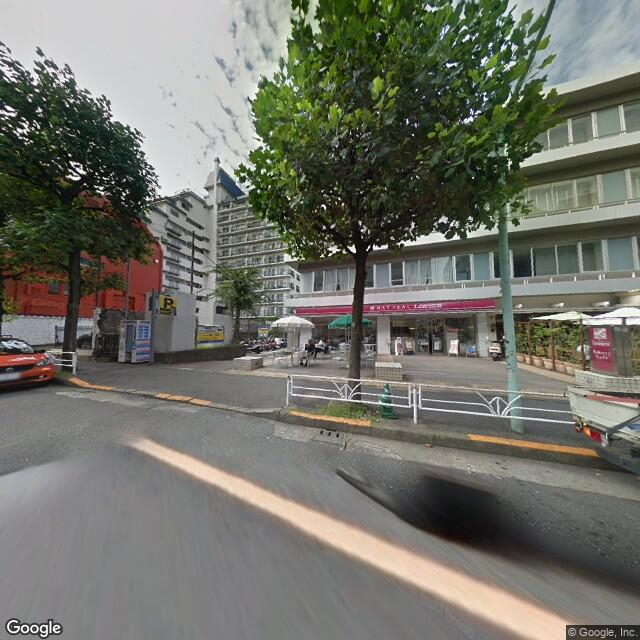lawson: (292, 295, 498, 317)
